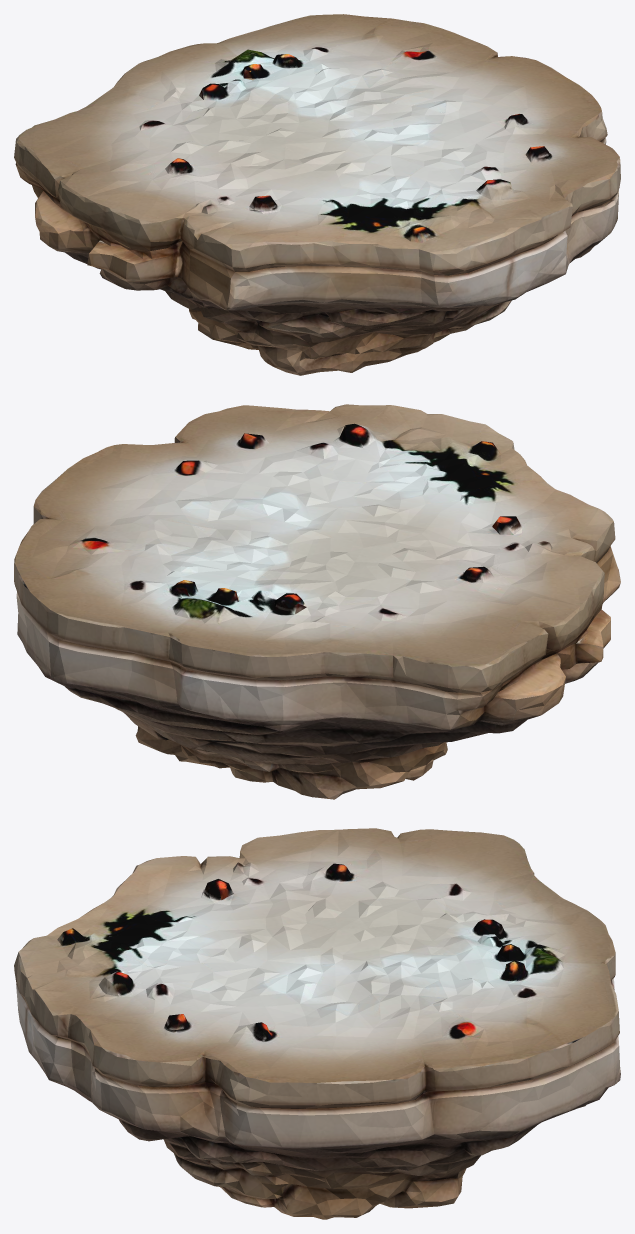
The model's file is beach_ledge.glb.
3 renders of one model, top to bottom at view 1: azimuth 30°, elevation 25°; view 2: azimuth 150°, elevation 25°; view 3: azimuth 270°, elevation 25°, orthographic. The views are drawn at different scales.
Visible parts, largest first — view 1: tmpixe6_u2c.ply; view 2: tmpixe6_u2c.ply; view 3: tmpixe6_u2c.ply.
Part boxes in pixels (<box>): tmpixe6_u2c.ply: <box>14,14,620,375</box>; tmpixe6_u2c.ply: <box>14,404,620,799</box>; tmpixe6_u2c.ply: <box>14,828,620,1219</box>.
Size of the model in its own units: 2 by 0.7894 by 1.96.
Materials: 1 (1 with a texture image).
